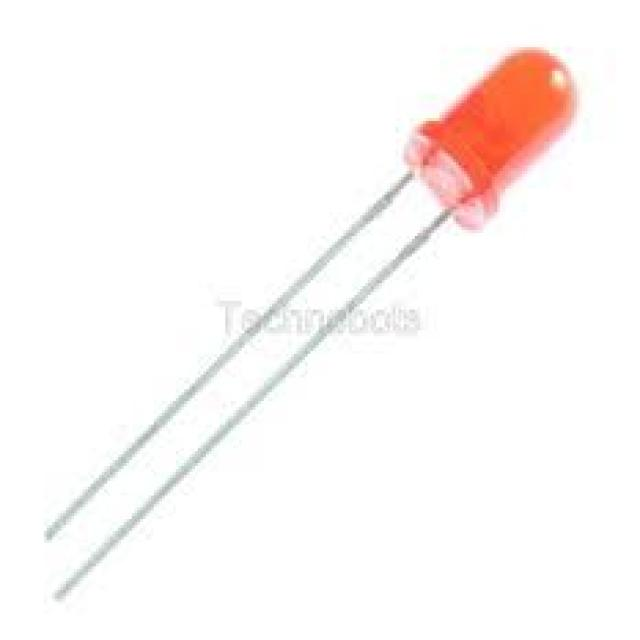Led: (58, 50, 574, 599)
